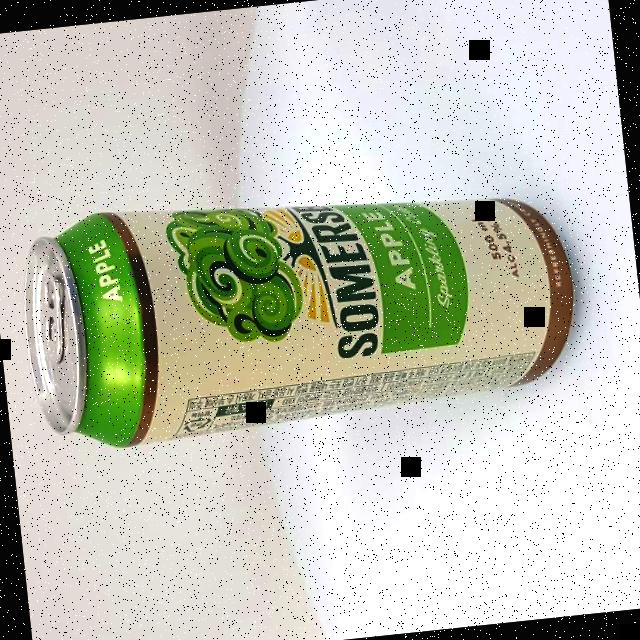can: (13, 162, 586, 456)
